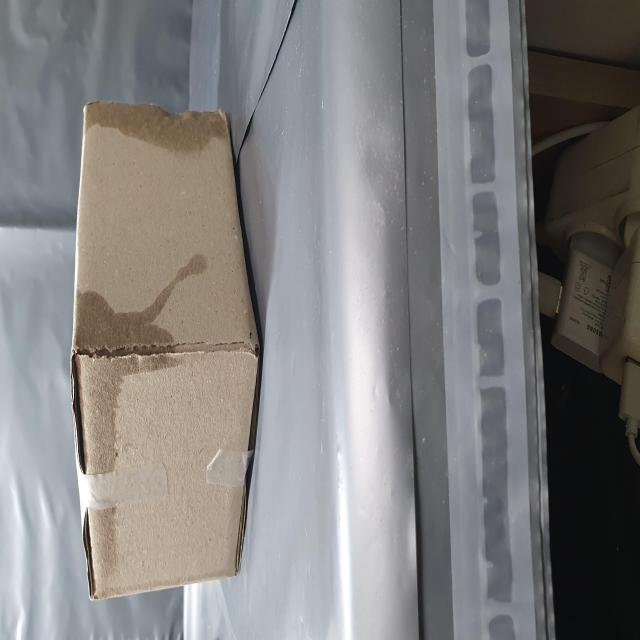wet: (97, 137, 204, 317), (270, 145, 306, 414)
